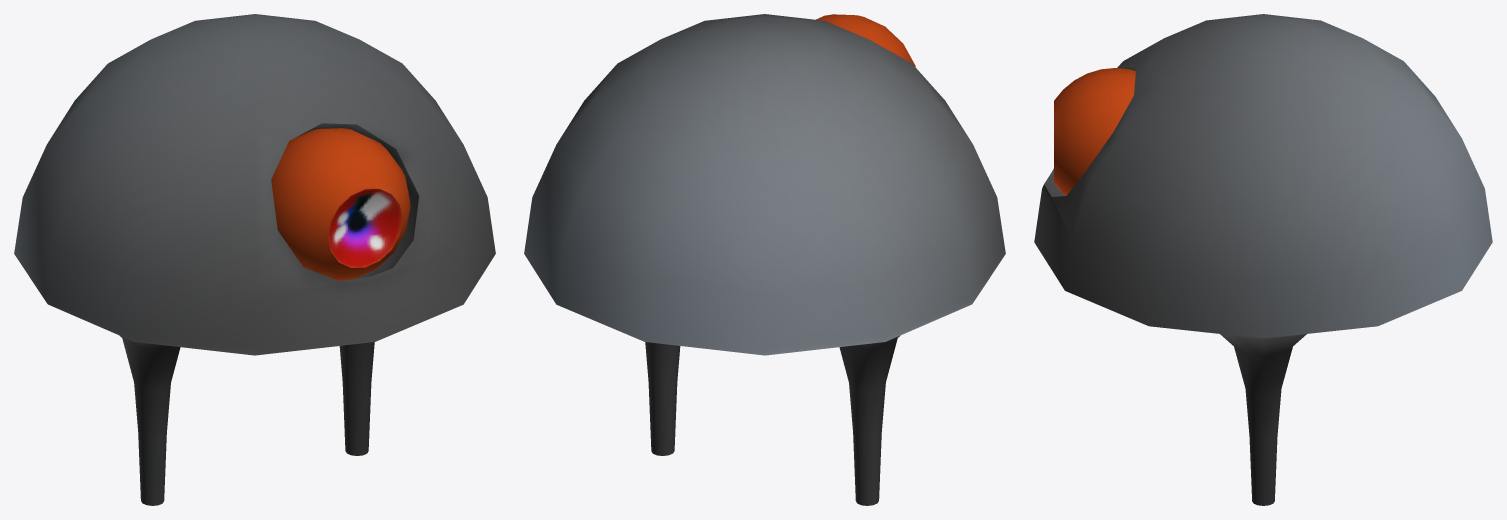
File: One_Eye_02.fbx
3 renders of one model, left to right at view 1: azimuth 30°, elevation 25°; view 2: azimuth 150°, elevation 25°; view 3: azimuth 270°, elevation 25°, orthographic. The views are drawn at different scales.
Parts seen in each view (by area): view 1: One_Eye_02, Eye_02; view 2: One_Eye_02, Eye_02; view 3: One_Eye_02, Eye_02.
Part boxes in pixels (x1=…): One_Eye_02: x1=14, y1=14, x2=495, y2=505; Eye_02: x1=271, y1=128, x2=410, y2=280; One_Eye_02: x1=524, y1=14, x2=1005, y2=505; Eye_02: x1=816, y1=14, x2=915, y2=66; One_Eye_02: x1=1034, y1=14, x2=1492, y2=505; Eye_02: x1=1054, y1=68, x2=1135, y2=195.
Bounding box in the file's own units: 18 × 18.27 × 18.1.
1 material, 1 textured.
